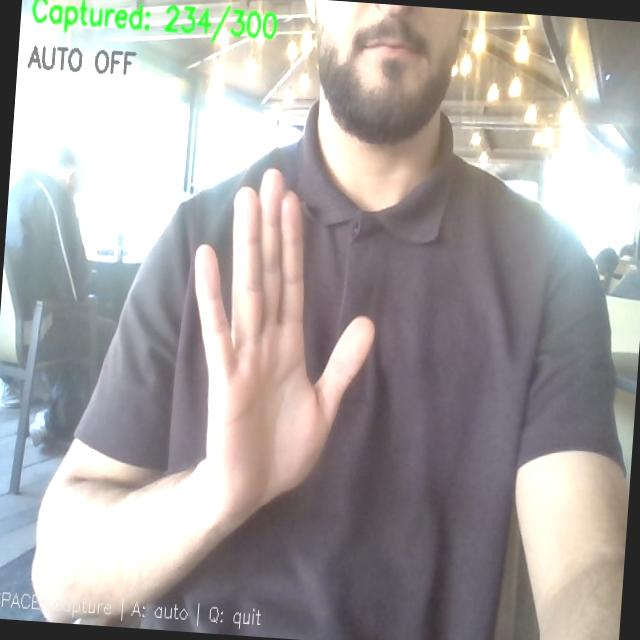Hand: (195, 171, 373, 517)
